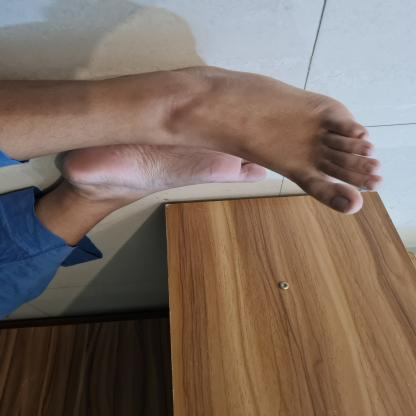leg: (0, 51, 386, 223), (36, 147, 271, 240)
